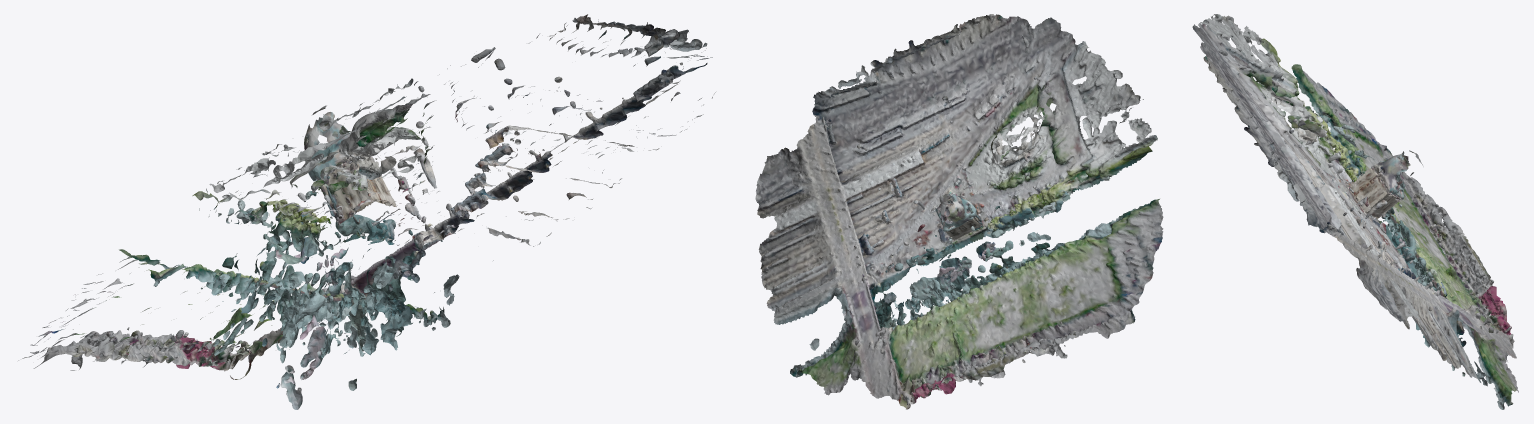
3 renders of one model, left to right at view 1: azimuth 30°, elevation 25°; view 2: azimuth 150°, elevation 25°; view 3: azimuth 270°, elevation 25°, orthographic. The views are drawn at different scales.
Parts seen in each view (by area): view 1: geometry_0; view 2: geometry_0; view 3: geometry_0.
Part boxes in pixels (box(x1,y1,x2,y2)): geometry_0: box(18, 14, 715, 409); geometry_0: box(755, 14, 1163, 409); geometry_0: box(1192, 14, 1518, 409).
Bounding box in the file's own units: 21.6 × 15.69 × 14.37.
